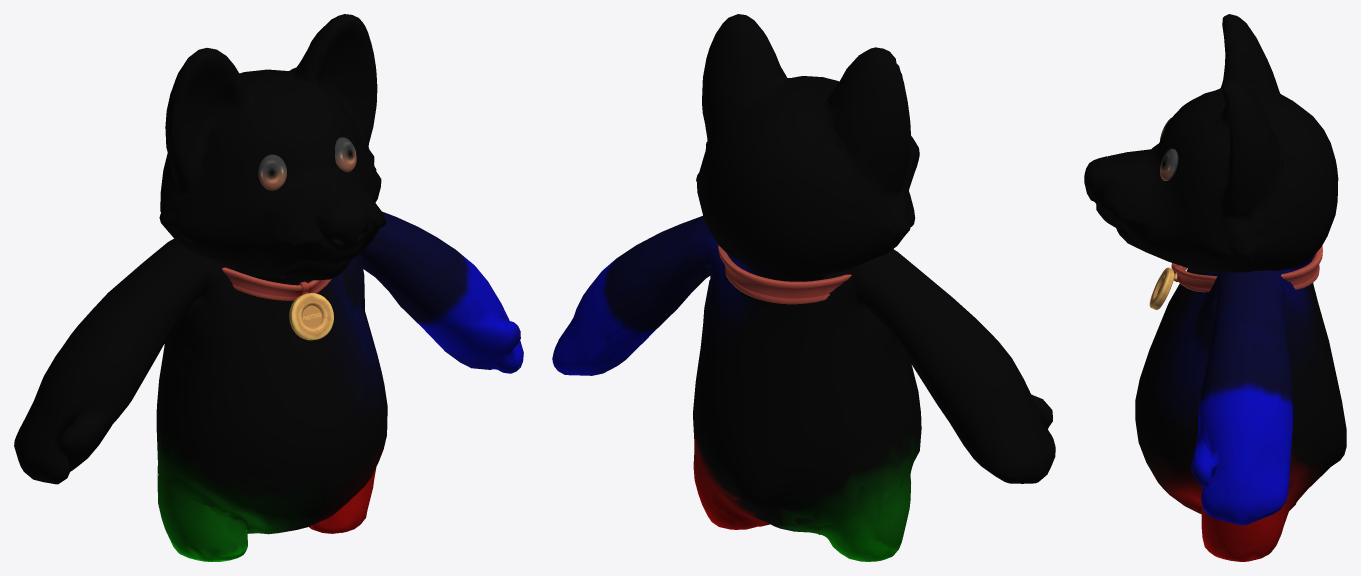
Rendered from nemo_shell_v3.glb.
3 renders of one model, left to right at view 1: azimuth 30°, elevation 25°; view 2: azimuth 150°, elevation 25°; view 3: azimuth 270°, elevation 25°, orthographic. The views are drawn at different scales.
Parts seen in each view (by area): view 1: BoundedShellGroom, Body, Collar, Nemo_Normal; view 2: BoundedShellGroom, Body, Collar; view 3: BoundedShellGroom, Body, Collar, Nemo_Normal.
Part boxes in pixels (x1,y1,x2,y2): BoundedShellGroom: (14, 14, 523, 561); Body: (24, 20, 512, 560); Collar: (222, 267, 333, 340); Nemo_Normal: (258, 137, 356, 190); BoundedShellGroom: (552, 14, 1055, 561); Body: (561, 54, 1050, 543); Collar: (718, 245, 851, 304); BoundedShellGroom: (1084, 14, 1346, 561); Body: (1087, 20, 1339, 522); Collar: (1149, 246, 1322, 309); Nemo_Normal: (1160, 117, 1178, 180).
Size of the model in its own units: 2.72 by 2.67 by 1.34.
Materials: 4 (4 with a texture image).
